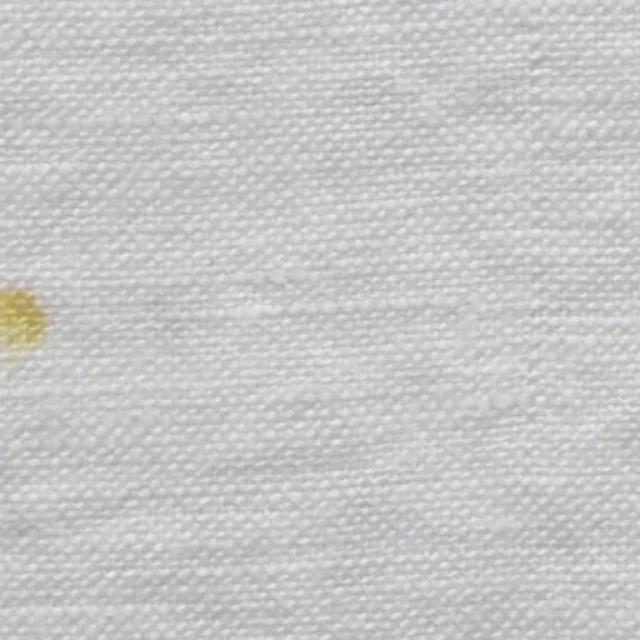Stain: (0, 290, 46, 349)
